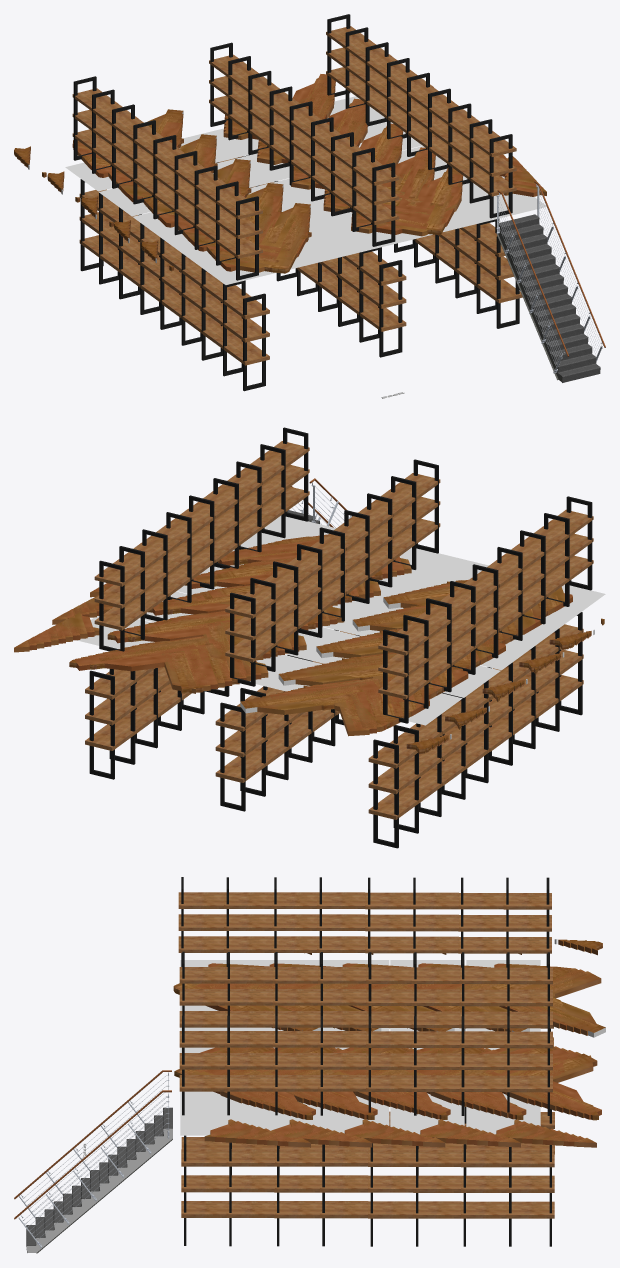
The model's file is dat09.glb.
3 renders of one model, top to bottom at view 1: azimuth 30°, elevation 25°; view 2: azimuth 150°, elevation 25°; view 3: azimuth 270°, elevation 25°, orthographic. The views are drawn at different scales.
Visible parts, largest first — view 1: C-Steel Stair, _G-Object.300 (Loose Mesh), _C-Component#3 (Loose Mesh), _G-Object.075 (Loose Mesh), _G-Object.150 (Loose Mesh), _G-Object (Loose Mesh), _G-Object.225 (Loose Mesh), C-Stair Stringer, G-Object.481, G-Object.497, G-Object.678, G-Object.399 (+18 smaller); view 2: _G-Object.300 (Loose Mesh), _G-Object.150 (Loose Mesh), _G-Object.225 (Loose Mesh), _G-Object.075 (Loose Mesh), _G-Object (Loose Mesh), G-Object.156, G-Object.172, G-Object.091, G-Object.482, G-Object.472, G-Object.432, G-Object.442 (+57 smaller); view 3: _G-Object.300 (Loose Mesh), C-Steel Stair, _C-Component#3 (Loose Mesh), C-Stair Stringer.001, _G-Object.150 (Loose Mesh), _G-Object.075 (Loose Mesh), _G-Object.225 (Loose Mesh), _G-Object (Loose Mesh), G-Object.384, G-Object.615, G-Object.616, G-Object.672 (+95 smaller).
Boxes of the visible parts, x1=… form: C-Steel Stair: x1=498, y1=214, x2=600, y2=382; _G-Object.300 (Loose Mesh): x1=193, y1=190, x2=546, y2=284; _C-Component#3 (Loose Mesh): x1=497, y1=181, x2=605, y2=365; _G-Object.075 (Loose Mesh): x1=99, y1=122, x2=422, y2=216; _G-Object.150 (Loose Mesh): x1=65, y1=96, x2=384, y2=191; _G-Object (Loose Mesh): x1=165, y1=172, x2=504, y2=264; _G-Object.225 (Loose Mesh): x1=132, y1=146, x2=446, y2=240; C-Stair Stringer: x1=496, y1=225, x2=562, y2=381; G-Object.481: x1=360, y1=308, x2=406, y2=331; G-Object.497: x1=360, y1=285, x2=406, y2=308; G-Object.678: x1=353, y1=161, x2=399, y2=185; G-Object.399: x1=477, y1=279, x2=522, y2=303; _G-Object.300 (Loose Mesh): x1=245, y1=515, x2=605, y2=621; _G-Object.150 (Loose Mesh): x1=77, y1=616, x2=462, y2=725; _G-Object.225 (Loose Mesh): x1=177, y1=566, x2=538, y2=670; _G-Object.075 (Loose Mesh): x1=139, y1=591, x2=500, y2=697; _G-Object (Loose Mesh): x1=230, y1=542, x2=568, y2=643; G-Object.156: x1=183, y1=647, x2=217, y2=689; G-Object.172: x1=102, y1=652, x2=185, y2=671; G-Object.091: x1=285, y1=659, x2=389, y2=679; G-Object.482: x1=215, y1=730, x2=266, y2=757; G-Object.472: x1=215, y1=756, x2=266, y2=782; G-Object.432: x1=368, y1=793, x2=418, y2=819; G-Object.442: x1=368, y1=767, x2=418, y2=794; _G-Object.300 (Loose Mesh): x1=180, y1=960, x2=254, y2=1135; C-Steel Stair: x1=26, y1=1107, x2=172, y2=1252; _C-Component#3 (Loose Mesh): x1=14, y1=1070, x2=171, y2=1241; C-Stair Stringer.001: x1=26, y1=1128, x2=172, y2=1253; _G-Object.150 (Loose Mesh): x1=466, y1=960, x2=540, y2=1134; _G-Object.075 (Loose Mesh): x1=390, y1=960, x2=464, y2=1134; _G-Object.225 (Loose Mesh): x1=315, y1=960, x2=389, y2=1133; _G-Object (Loose Mesh): x1=241, y1=960, x2=316, y2=1130; G-Object.384: x1=226, y1=1149, x2=274, y2=1166; G-Object.615: x1=365, y1=914, x2=413, y2=931; G-Object.616: x1=365, y1=892, x2=413, y2=909; G-Object.672: x1=459, y1=989, x2=507, y2=1006.
Size of the model in its own units: 1.52 by 0.7484 by 1.86.
Materials: 11 (9 with a texture image).
